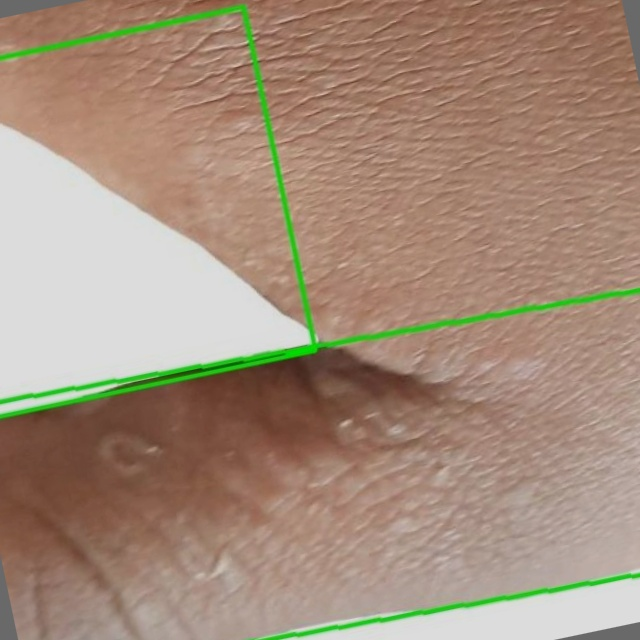Scabies: (0, 289, 639, 639), (0, 6, 316, 416)
